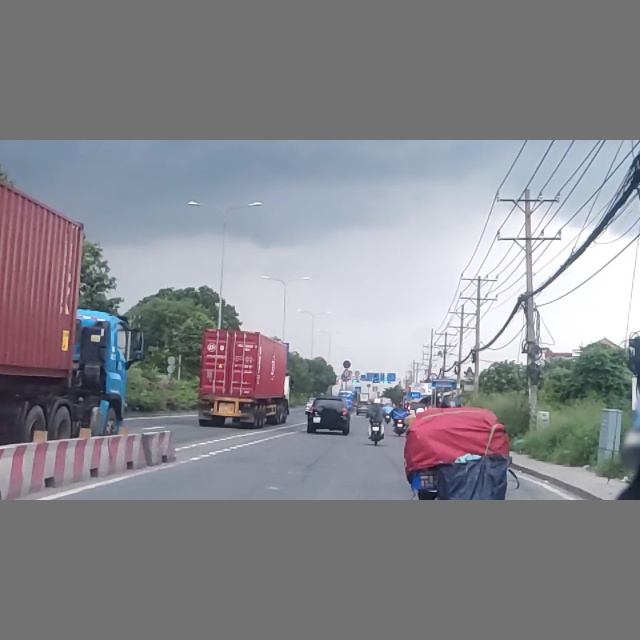P.130: (342, 359, 352, 369)
